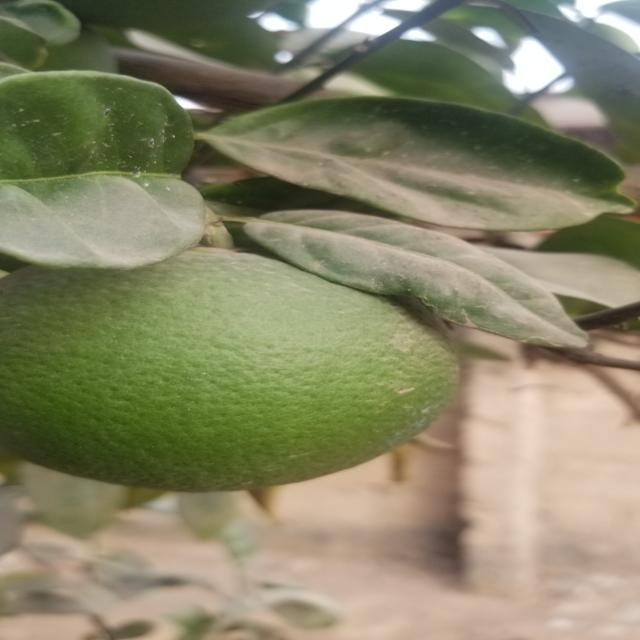Unripe: (0, 251, 464, 490)
